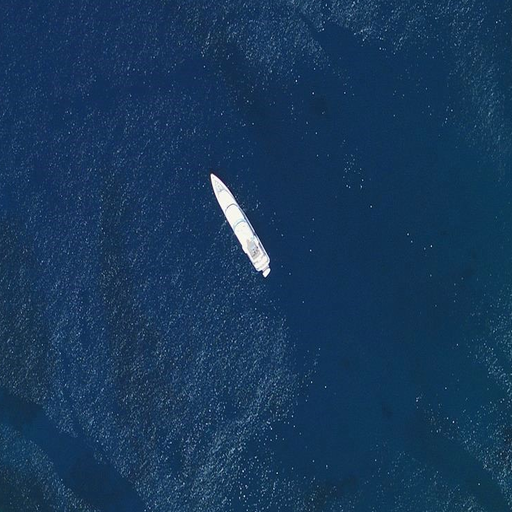ship: (206, 171, 274, 280)
